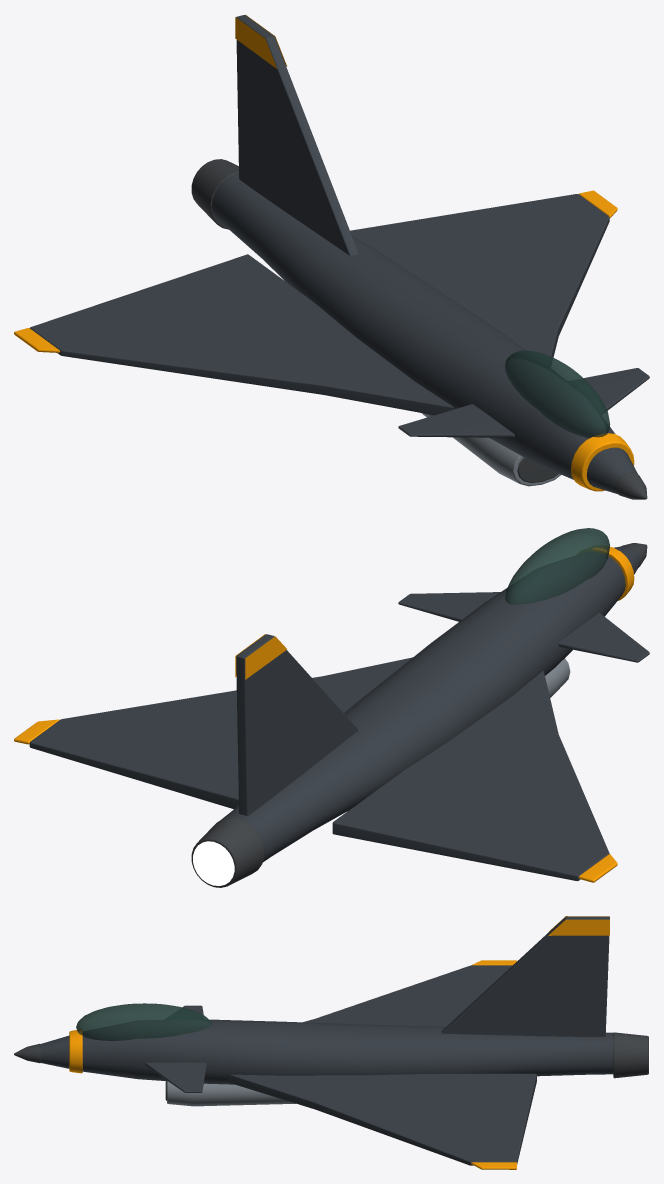
The model's file is Jet_ViperIX.fbx.
3 views of the same model, one above another, from view 1: azimuth 30°, elevation 25°; view 2: azimuth 150°, elevation 25°; view 3: azimuth 270°, elevation 25° (orthographic). The views are drawn at different scales.
Visible parts, largest first — view 1: Body.004, Canopy.005, Accents.001, Trim.003, Intakes.001; view 2: Body.004, Canopy.005, Trim.003, Accents.001, Glow.005, Intakes.001; view 3: Body.004, Canopy.005, Accents.001, Intakes.001, Trim.003.
Boxes of the visible parts, x1=… form: Body.004: x1=30, y1=15, x2=649, y2=493; Canopy.005: x1=505, y1=350, x2=610, y2=438; Accents.001: x1=14, y1=15, x2=634, y2=491; Trim.003: x1=191, y1=159, x2=647, y2=499; Intakes.001: x1=422, y1=413, x2=561, y2=486; Body.004: x1=29, y1=546, x2=649, y2=881; Canopy.005: x1=505, y1=528, x2=609, y2=604; Trim.003: x1=191, y1=543, x2=647, y2=887; Accents.001: x1=14, y1=547, x2=634, y2=882; Glow.005: x1=193, y1=841, x2=234, y2=885; Intakes.001: x1=545, y1=658, x2=570, y2=697; Body.004: x1=40, y1=916, x2=613, y2=1165; Canopy.005: x1=76, y1=1003, x2=212, y2=1040; Accents.001: x1=69, y1=916, x2=609, y2=1169; Intakes.001: x1=167, y1=1081, x2=295, y2=1106; Trim.003: x1=14, y1=1032, x2=648, y2=1100.
Bounding box in the file's own units: 22.2 × 9.2 × 28.7.
